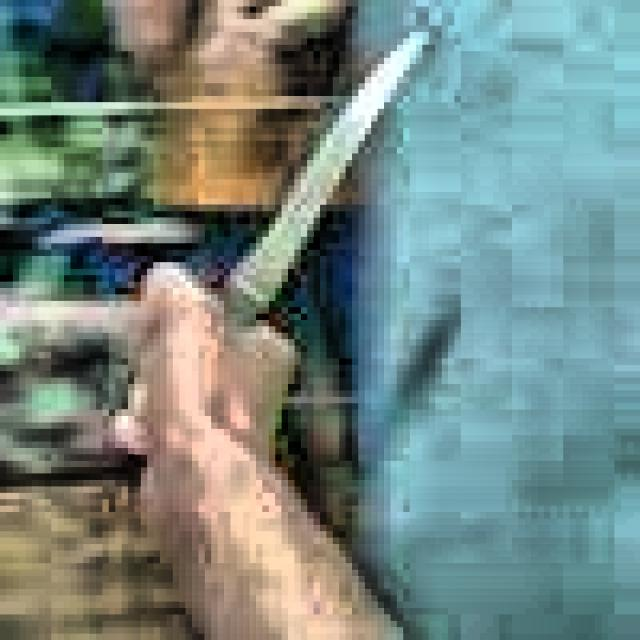knife: (130, 33, 436, 463)
